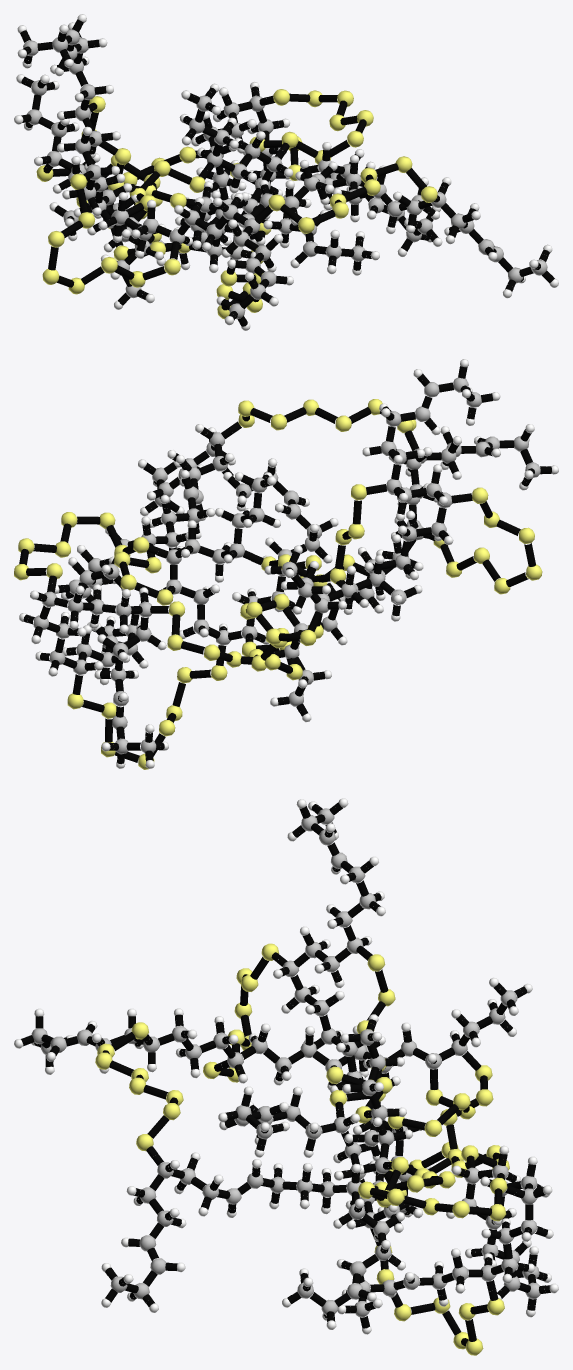
File: Elastomer_Ball_black.glb
The picture shows the model from 3 angles, top to bottom: view 1: azimuth 30°, elevation 25°; view 2: azimuth 150°, elevation 25°; view 3: azimuth 270°, elevation 25°; orthographic projection. The views are drawn at different scales.
Size of the model in its own units: 0.6866 by 0.5902 by 0.682.
